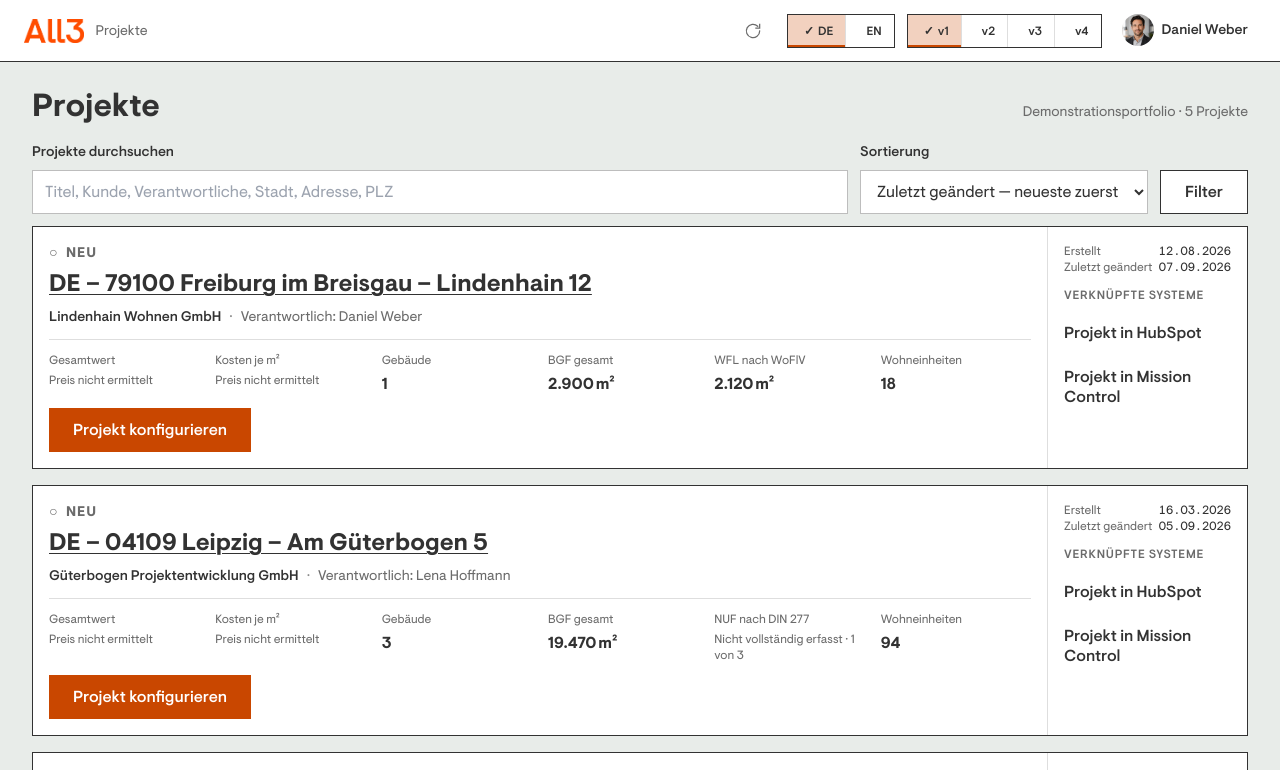
Account menu — controlled dismissal › states the demo-account reason exactly once and points the blocked action at it
The width and height of the screenshot is (1280, 770).
Click the button with aria-label "Daniel Weber, Kontomenü öffnen" at [1185, 30], box x1=1114 y1=8 x2=1256 y2=52
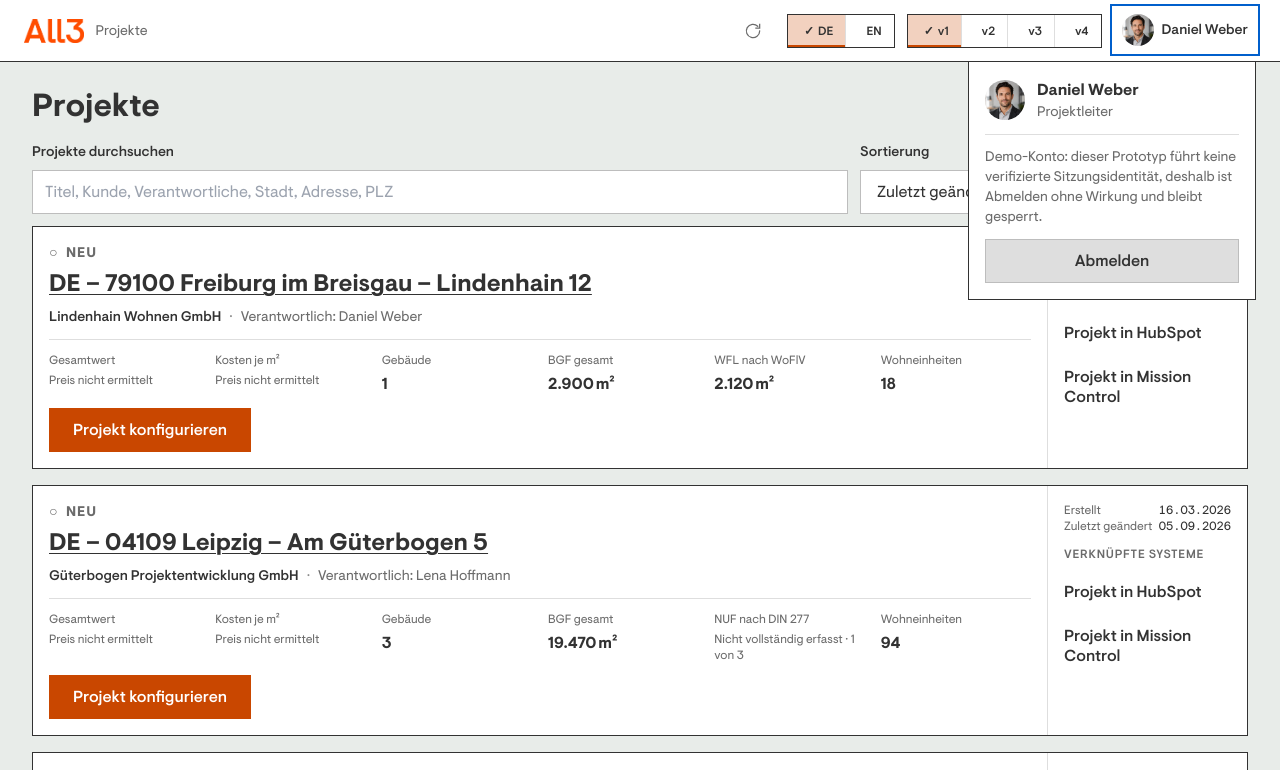
Check: the text "Demo-Konto: dieser Prototyp führt keine verifizierte Sitzungsidentität, deshalb ist Abmelden ohne Wirkung und bleibt ges" is shown once, box x1=985 y1=147 x2=1239 y2=227
Check: the text "Demo-Konto: dieser Prototyp führt keine verifizierte Sitzungsidentität, deshalb ist Abmelden ohne Wirkung und bleibt ges" shows "Demo-Konto: dieser Prototyp führt keine verifizierte Sitzungsidentität, deshalb ist Abmelden ohne Wirkung und bleibt gesperrt.", box x1=985 y1=147 x2=1236 y2=226
Check: the text "Projektleiter" is shown, box x1=1037 y1=102 x2=1113 y2=121
